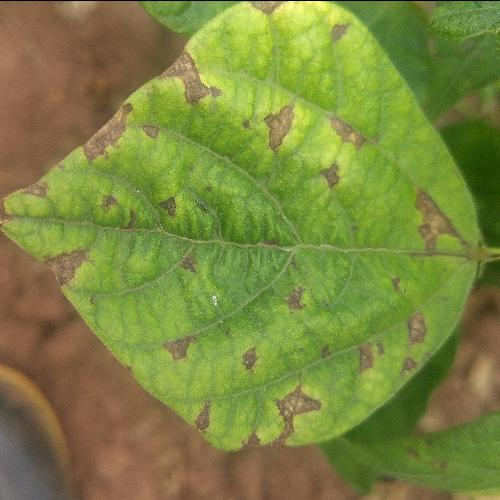hawar: (14, 46, 447, 444)
